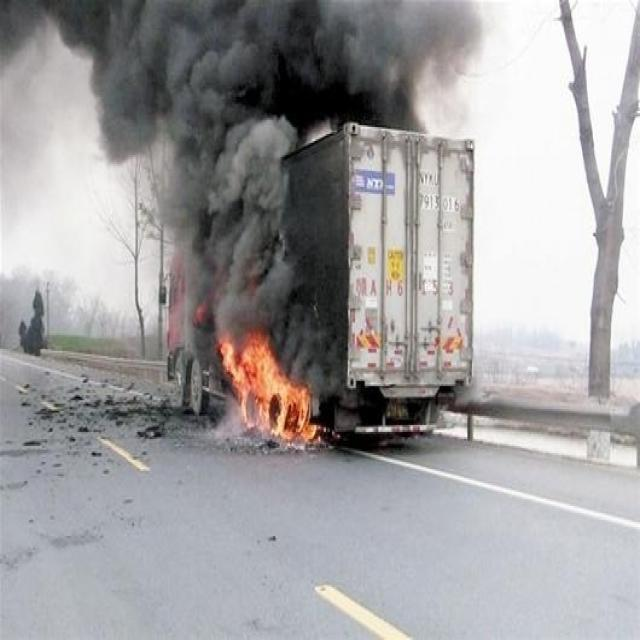Fire: (216, 335, 318, 443)
Smoke: (38, 1, 486, 446)
